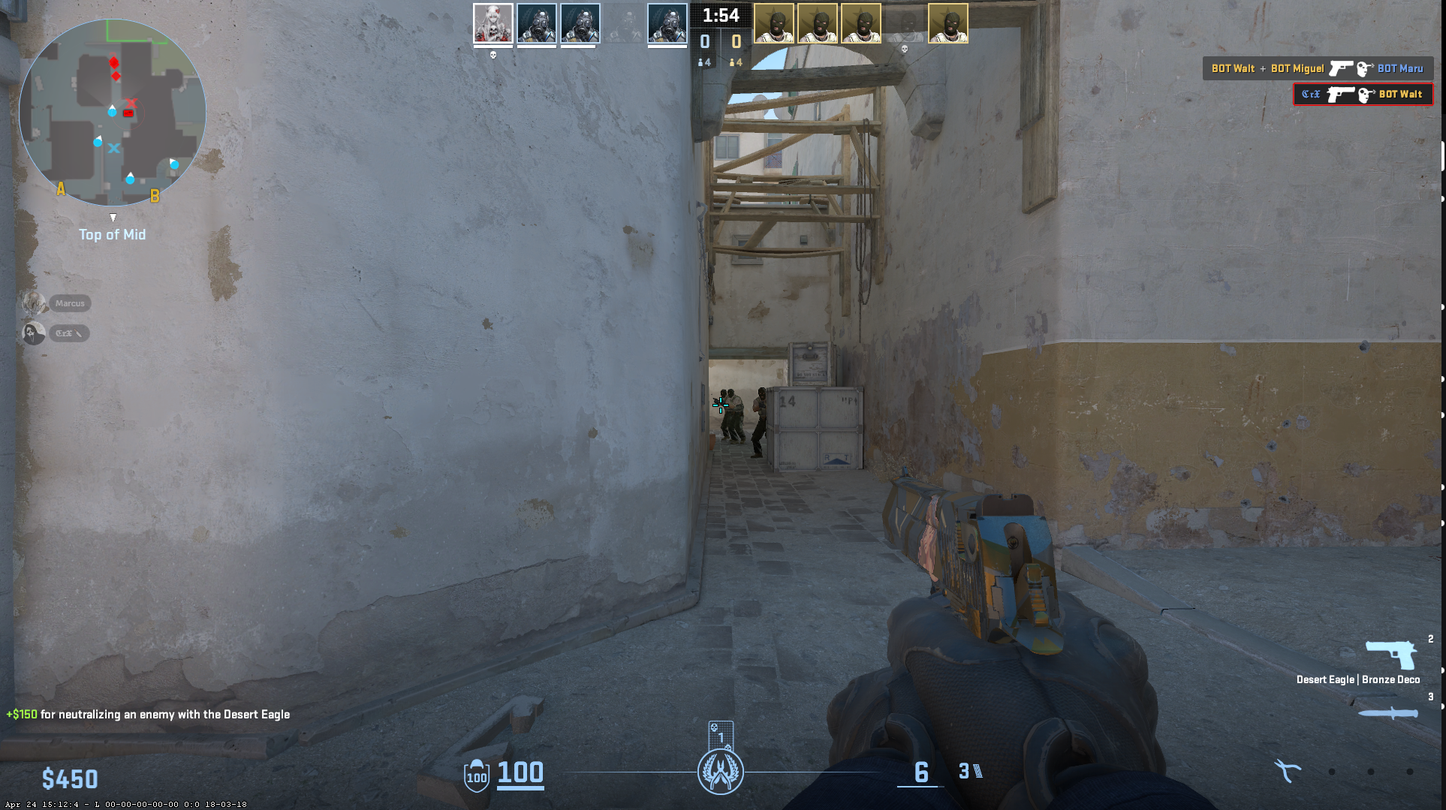T: (723, 388, 745, 444), (750, 385, 766, 458)
